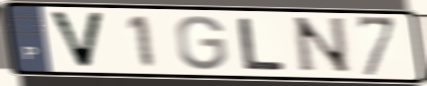1: (125, 14, 159, 69)
7: (356, 14, 401, 78)
G: (174, 13, 229, 72)
L: (235, 16, 288, 73)
N: (290, 15, 356, 75)
V: (45, 9, 107, 71)
